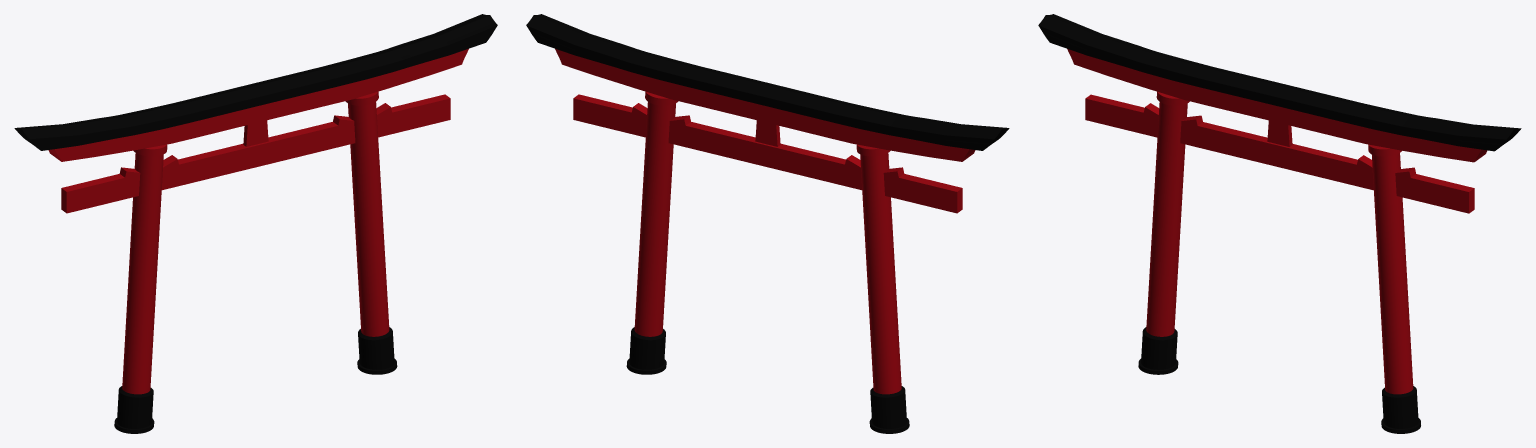
Rendered from Inari_2.fbx.
3 renders of one model, left to right at view 1: azimuth 30°, elevation 25°; view 2: azimuth 150°, elevation 25°; view 3: azimuth 330°, elevation 25°, orthographic.
Parts seen in each view (by area): view 1: Cube.024; view 2: Cube.024; view 3: Cube.024.
Boxes of the visible parts, x1,y1,x2,y2 form: Cube.024: [14, 14, 497, 433]; Cube.024: [526, 14, 1009, 433]; Cube.024: [1038, 14, 1521, 433].
Bounding box in the file's own units: 1943 × 1285 × 142.
